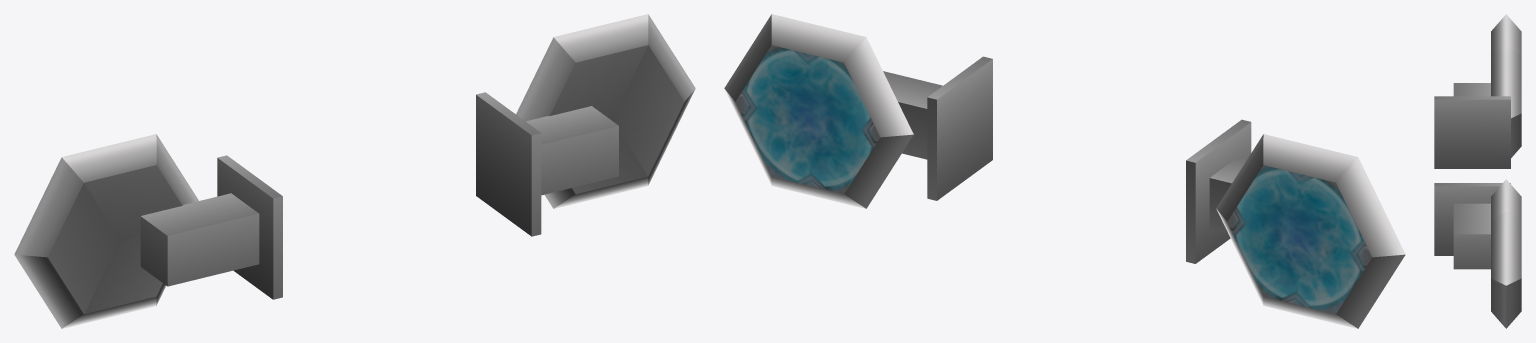
File: Fans_Drifter.fbx
3 renders of one model, left to right at view 1: azimuth 30°, elevation 25°; view 2: azimuth 150°, elevation 25°; view 3: azimuth 270°, elevation 25°, orthographic. The views are drawn at different scales.
Parts seen in each view (by area): view 1: Fans_Drifter; view 2: Fans_Drifter; view 3: Fans_Drifter.
Part boxes in pixels (x1,y1,x2,y2): Fans_Drifter: (14, 14, 695, 328); Fans_Drifter: (724, 14, 1405, 328); Fans_Drifter: (1434, 14, 1521, 328).
Size of the model in its own units: 1.41 by 0.3394 by 0.2273.
